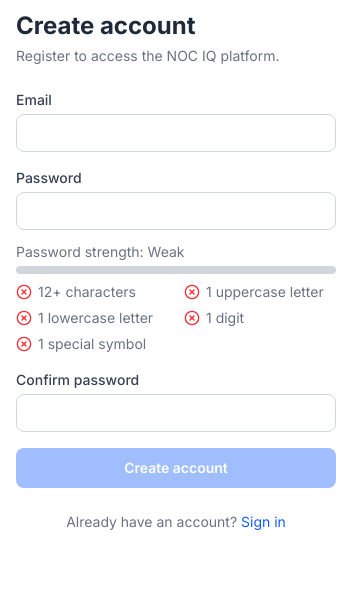
rejects direct form submission with a weak password
Type "weak" into the password field labelled "Password" at (176, 211), box [16,192,336,230]
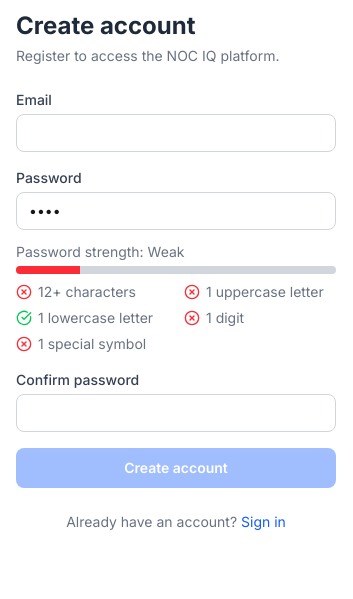
Type "weak" into the password field labelled "Confirm password" at (176, 413), box [16,394,336,432]
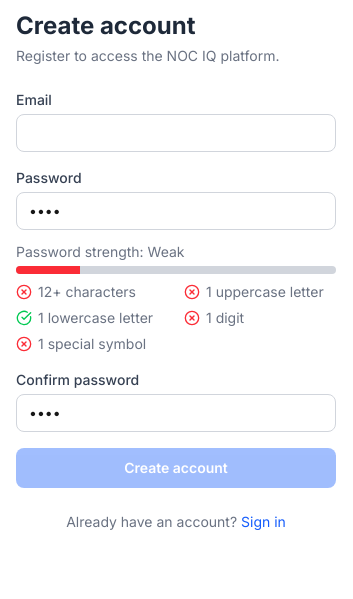
Submit the form named "Create account"
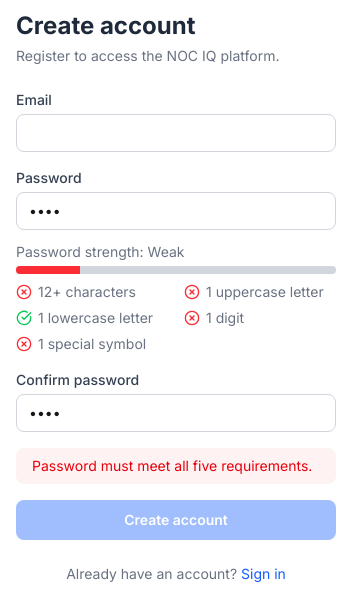
Expected: the text "Password must meet all five requirements." is shown, [16,448,336,484]
